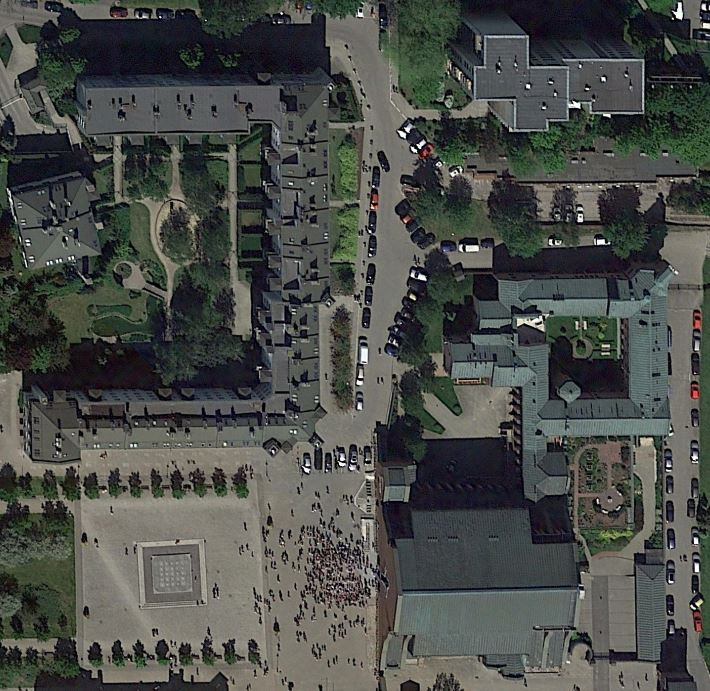block of flats: (19, 60, 344, 468), (436, 249, 684, 463), (441, 6, 652, 139), (1, 165, 107, 274)
church: (361, 464, 600, 680)
